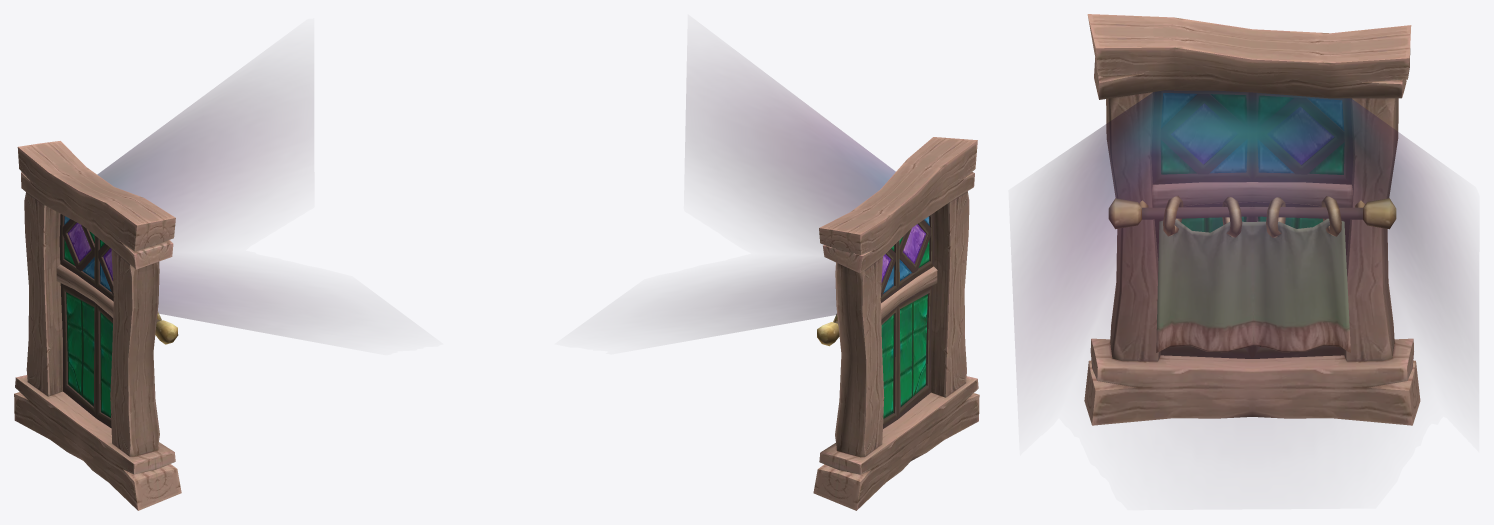
3 renders of one model, left to right at view 1: azimuth 30°, elevation 25°; view 2: azimuth 150°, elevation 25°; view 3: azimuth 270°, elevation 25°, orthographic. The views are drawn at different scales.
Bounding box in the file's own units: 2.08 × 1.91 × 1.92.
Materials: 4 (4 with a texture image).
